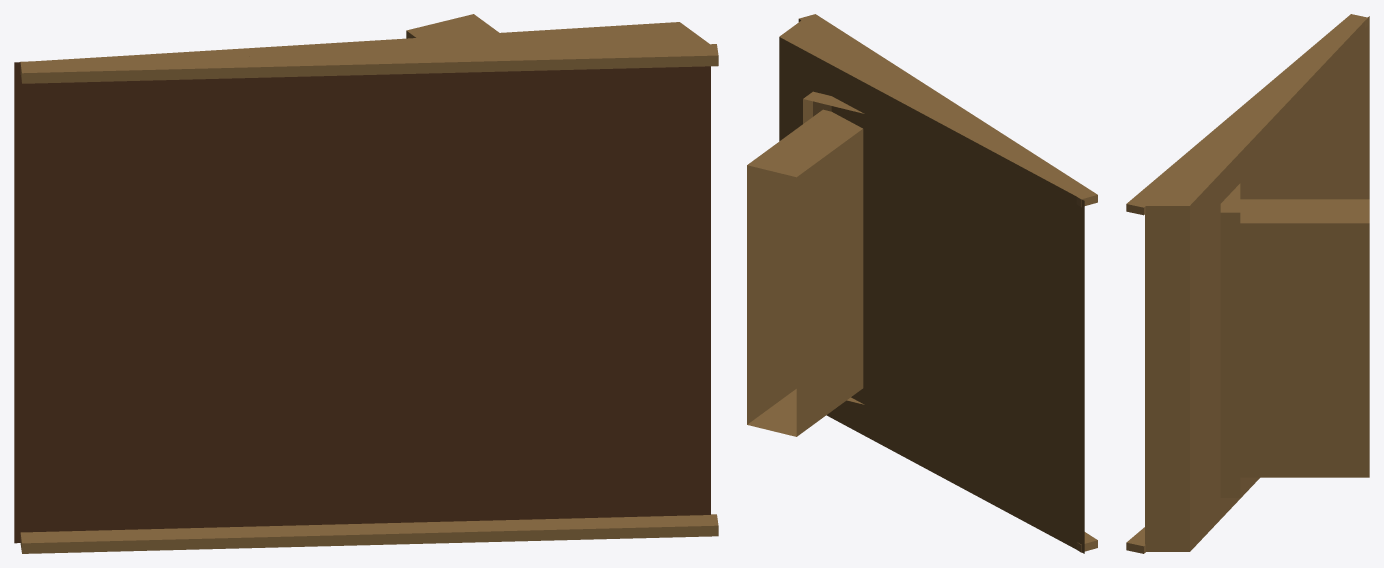
The model's file is ramp.glb.
The picture shows the model from 3 angles, left to right: view 1: azimuth 30°, elevation 25°; view 2: azimuth 150°, elevation 25°; view 3: azimuth 270°, elevation 25°; orthographic projection. The views are drawn at different scales.
Visible parts, largest first — view 1: bridge_07_ramp; view 2: bridge_07_ramp; view 3: bridge_07_ramp.
Part boxes in pixels (left/top/right/bottom): bridge_07_ramp: left=14, top=14, right=718, bottom=553; bridge_07_ramp: left=747, top=14, right=1097, bottom=553; bridge_07_ramp: left=1126, top=14, right=1369, bottom=553.
Bounding box in the file's own units: 16.31 × 13.6 × 8.66.
